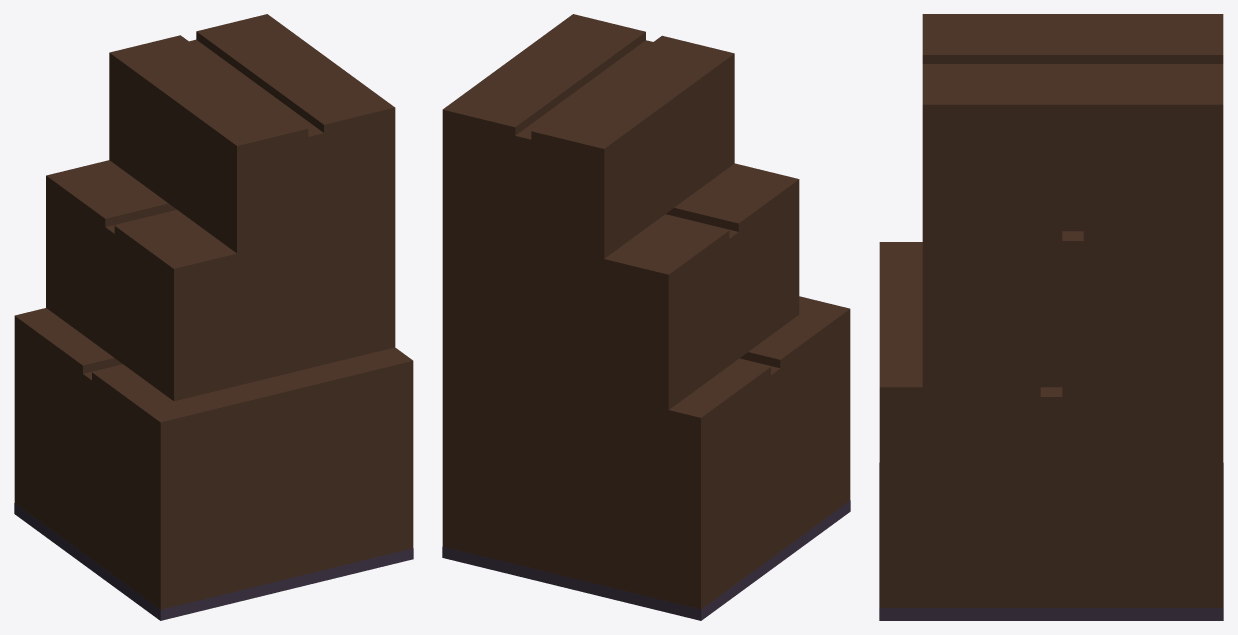
File: storage_boxes3.dae
3 renders of one model, left to right at view 1: azimuth 30°, elevation 25°; view 2: azimuth 150°, elevation 25°; view 3: azimuth 270°, elevation 25°, orthographic. The views are drawn at different scales.
Parts seen in each view (by area): view 1: storage_boxes3_MSH; view 2: storage_boxes3_MSH; view 3: storage_boxes3_MSH.
Boxes of the visible parts, x1,y1,x2,y2 form: storage_boxes3_MSH: (14,14,413,620); storage_boxes3_MSH: (442,14,850,620); storage_boxes3_MSH: (879,14,1223,620).
Size of the model in its own units: 1 by 1.66 by 1.
